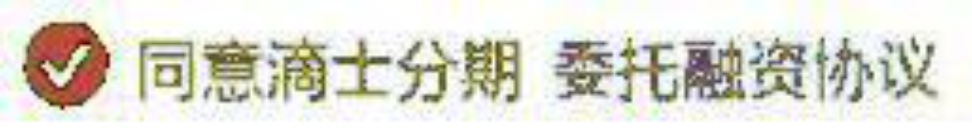CheckBox: (1, 1, 971, 139)
